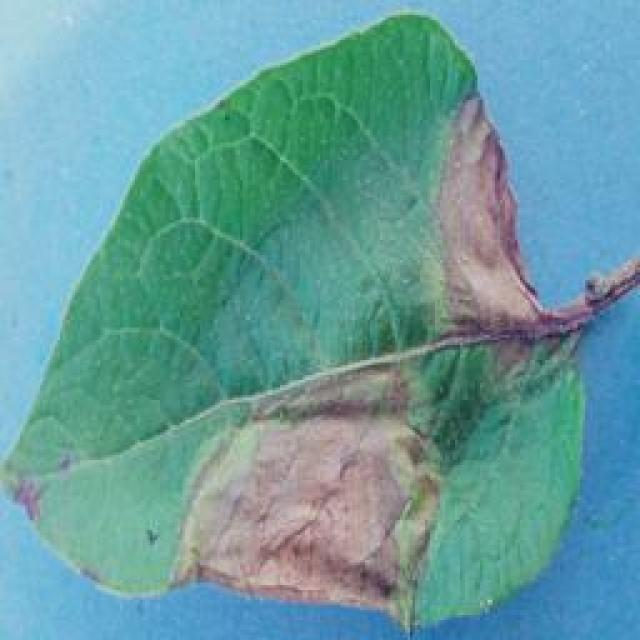Potato_Late_Blight: (27, 25, 563, 613)
